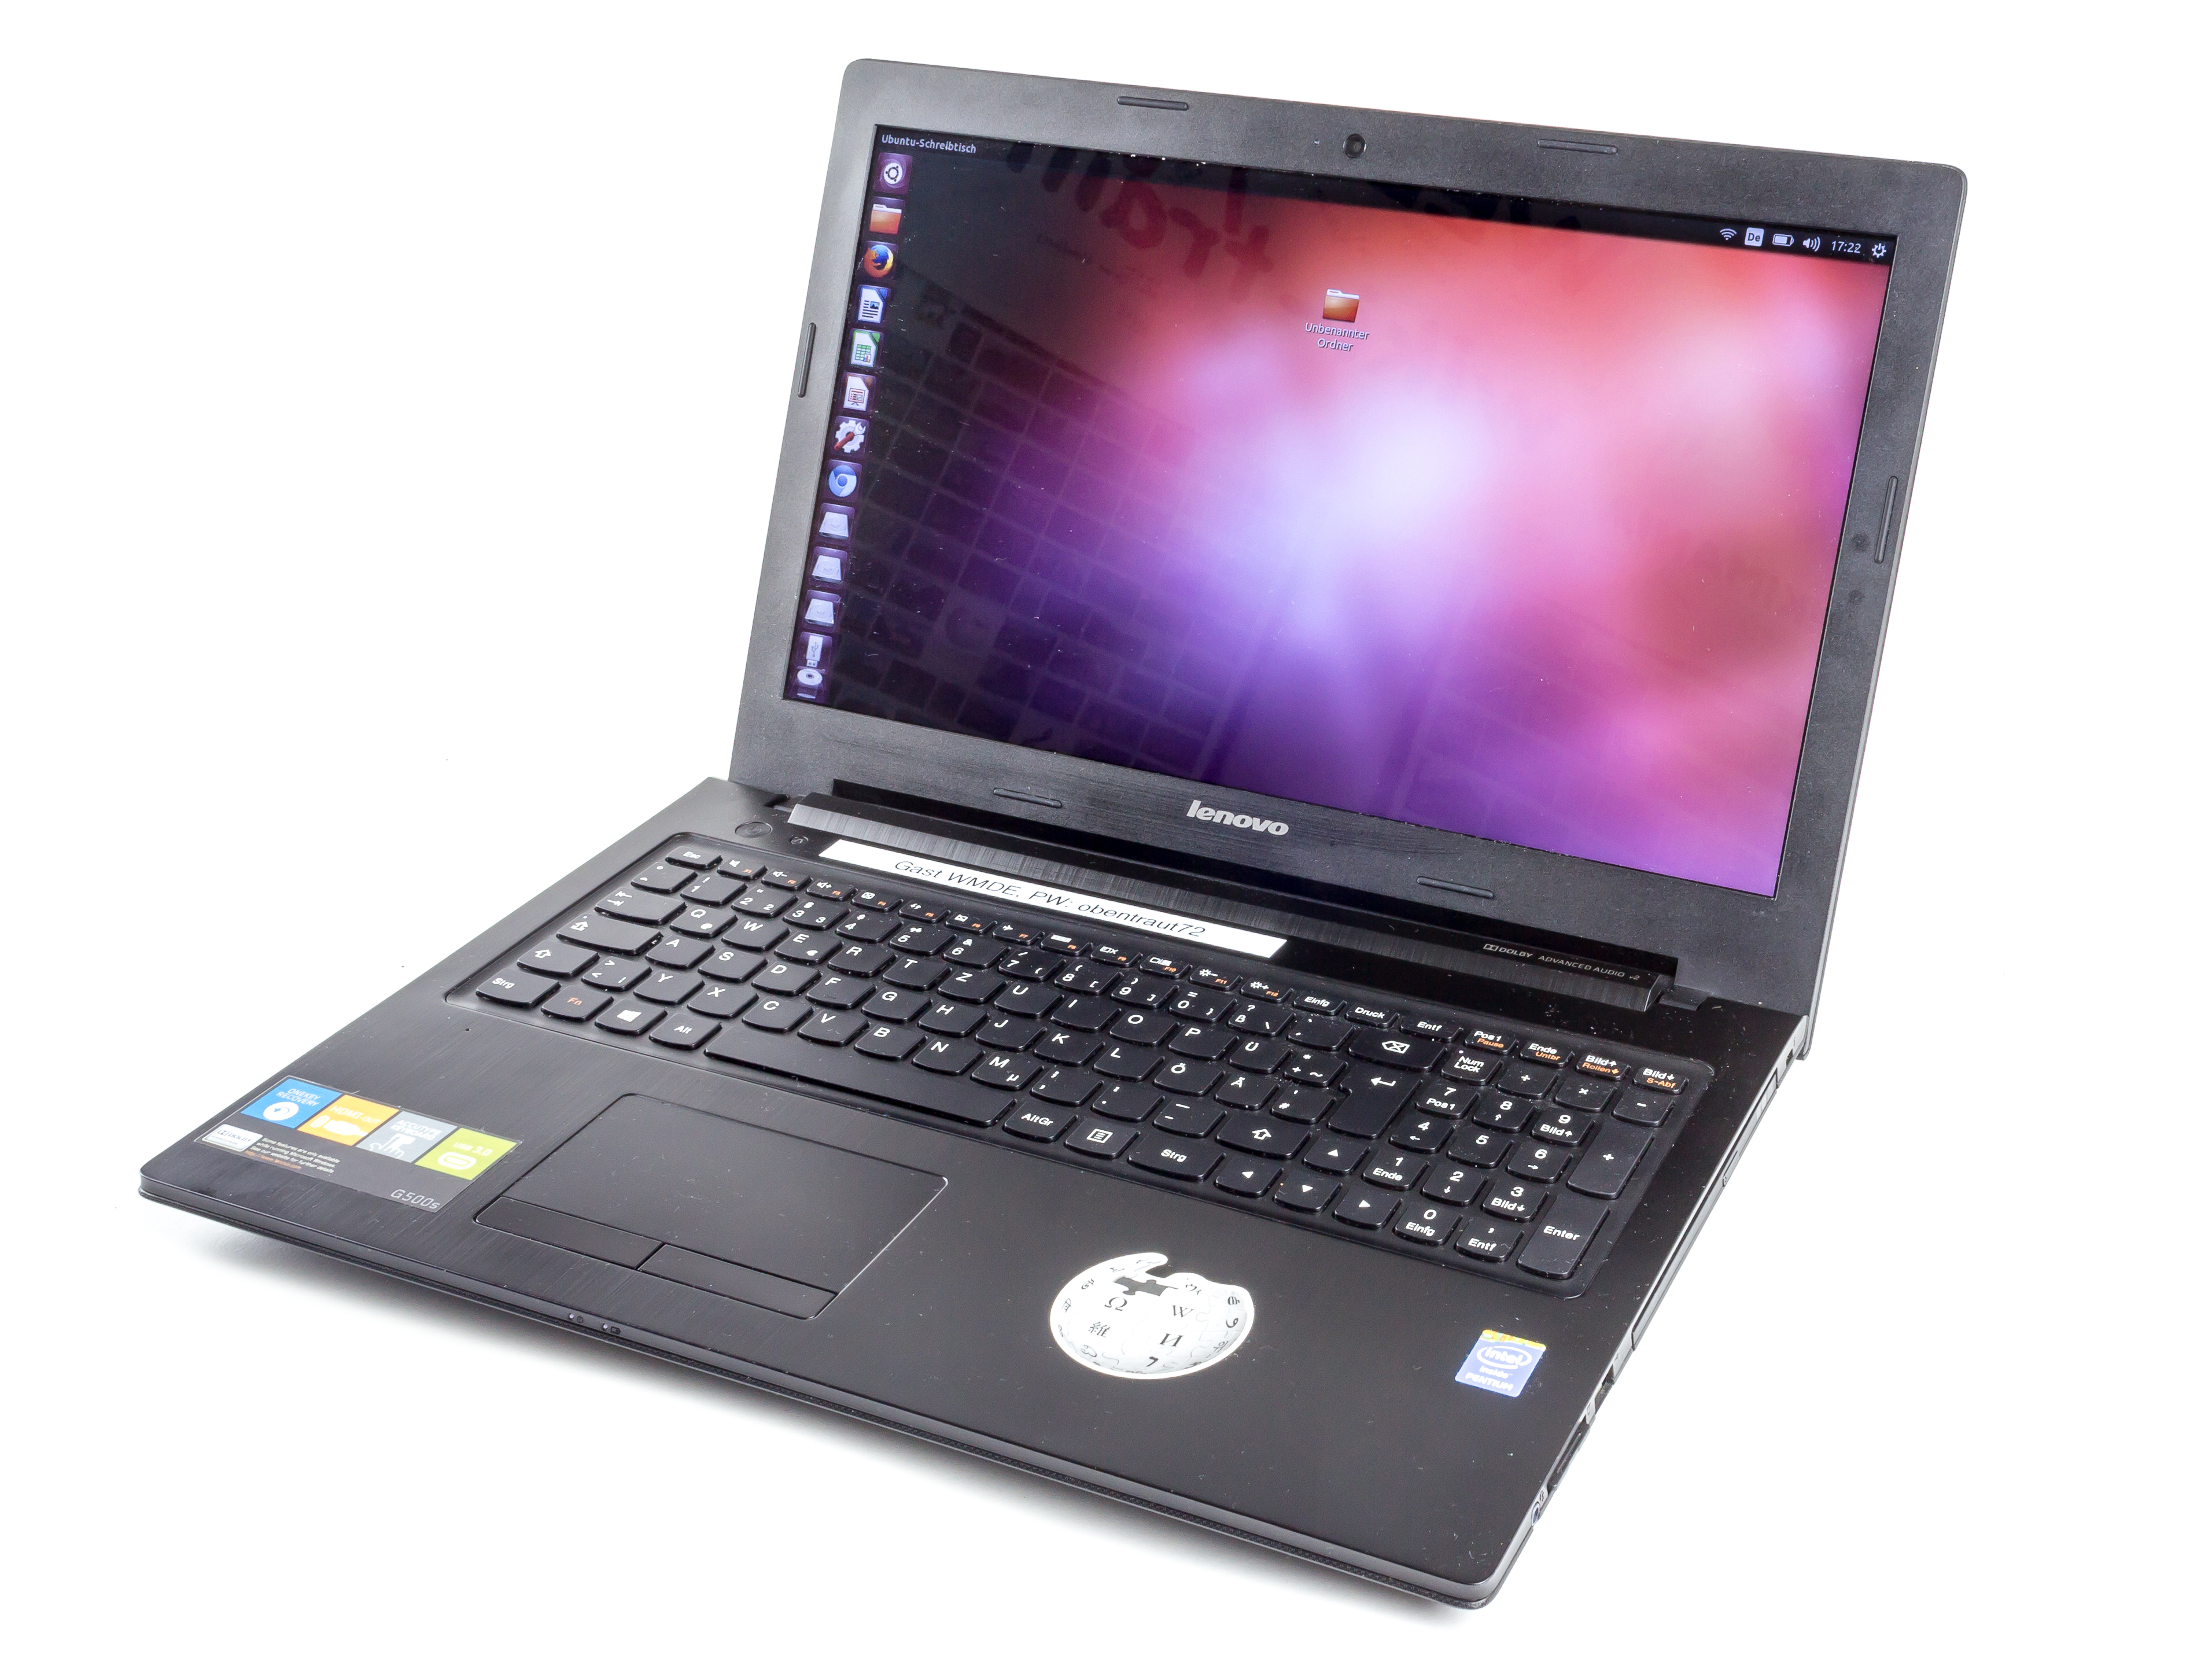laptop: (311, 45, 1968, 1481)
